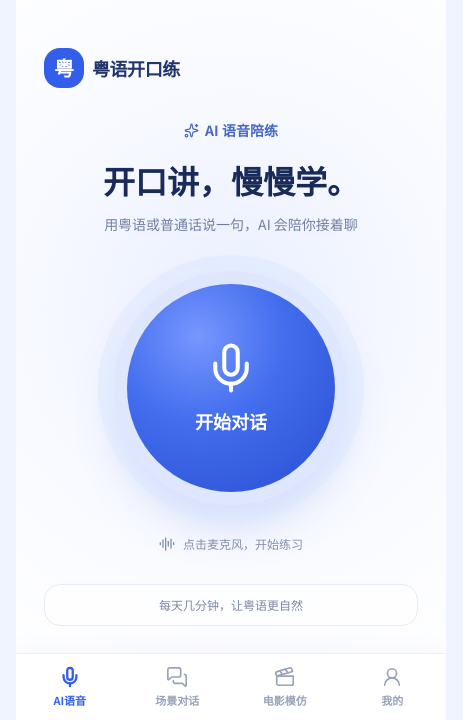
简化后的核心导航 › 场景和电影模仿均能到达
This screenshot has width=463, height=720.
Step 1. Click the button "场景对话" → [177, 687], box [124,654,231,719]
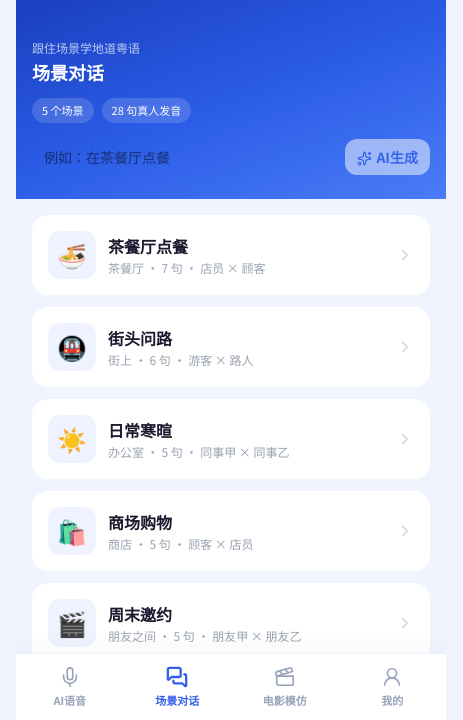
Expected: the text "茶餐厅点餐" is shown, [108,234,188,258]
Step 2. Click the button "电影模仿" → [285, 687], box [231,654,338,719]
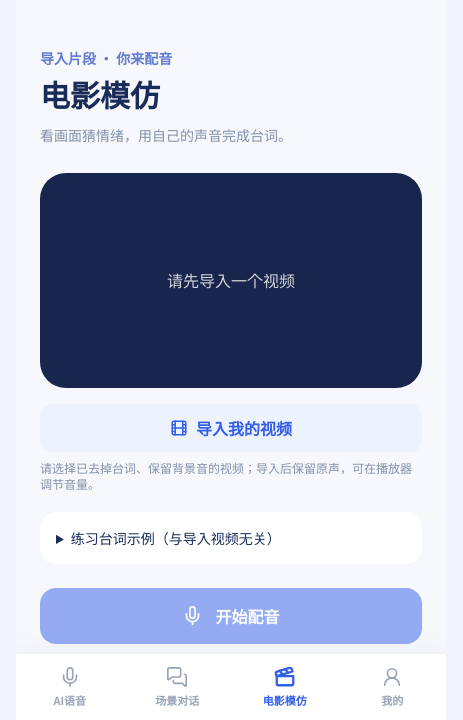
Expected: the heading "电影模仿" is shown, [40,72,160,116]
